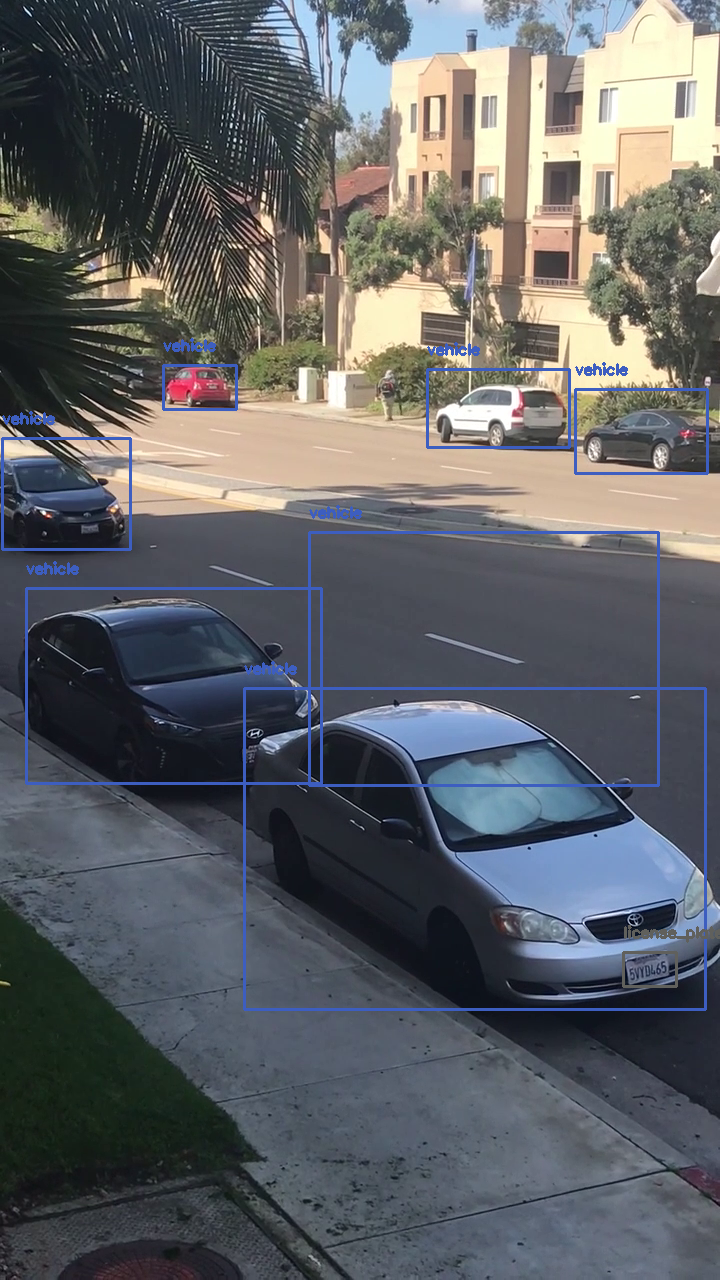license_plate: (623, 952, 676, 986)
vehicle: (244, 688, 705, 1009), (309, 532, 658, 785), (26, 588, 321, 783), (2, 438, 130, 549), (575, 389, 707, 473), (427, 369, 569, 447), (163, 365, 236, 409)
